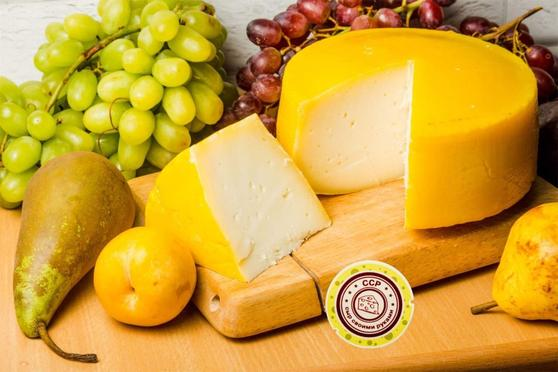cheese: (150, 113, 339, 280)
